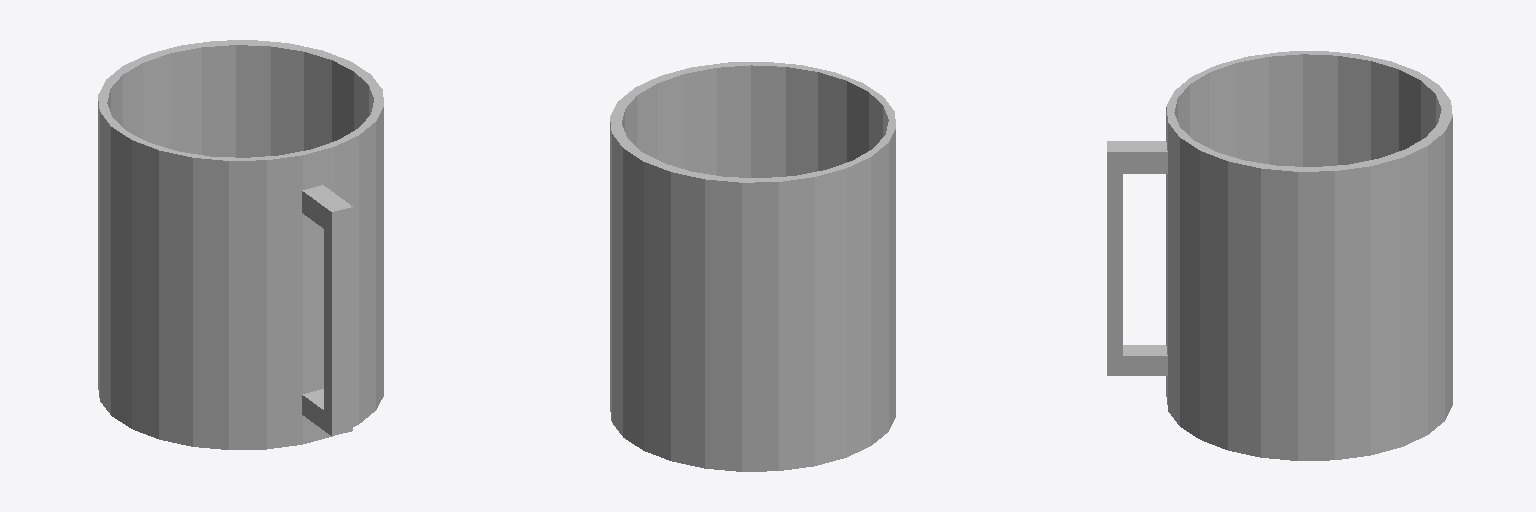
The picture shows the model from 3 angles: view 1: azimuth 30°, elevation 25°; view 2: azimuth 150°, elevation 25°; view 3: azimuth 270°, elevation 25°; orthographic projection.
Visible parts, largest first — view 1: model_normalized.003_model_normalized.004; view 2: model_normalized.003_model_normalized.004; view 3: model_normalized.003_model_normalized.004.
Boxes of the visible parts, box(x1,y1,x2,y2) form: model_normalized.003_model_normalized.004: box(98, 40, 383, 449); model_normalized.003_model_normalized.004: box(610, 62, 895, 471); model_normalized.003_model_normalized.004: box(1107, 51, 1452, 460).
Size of the model in its own units: 0.4751 by 0.5291 by 0.5731.